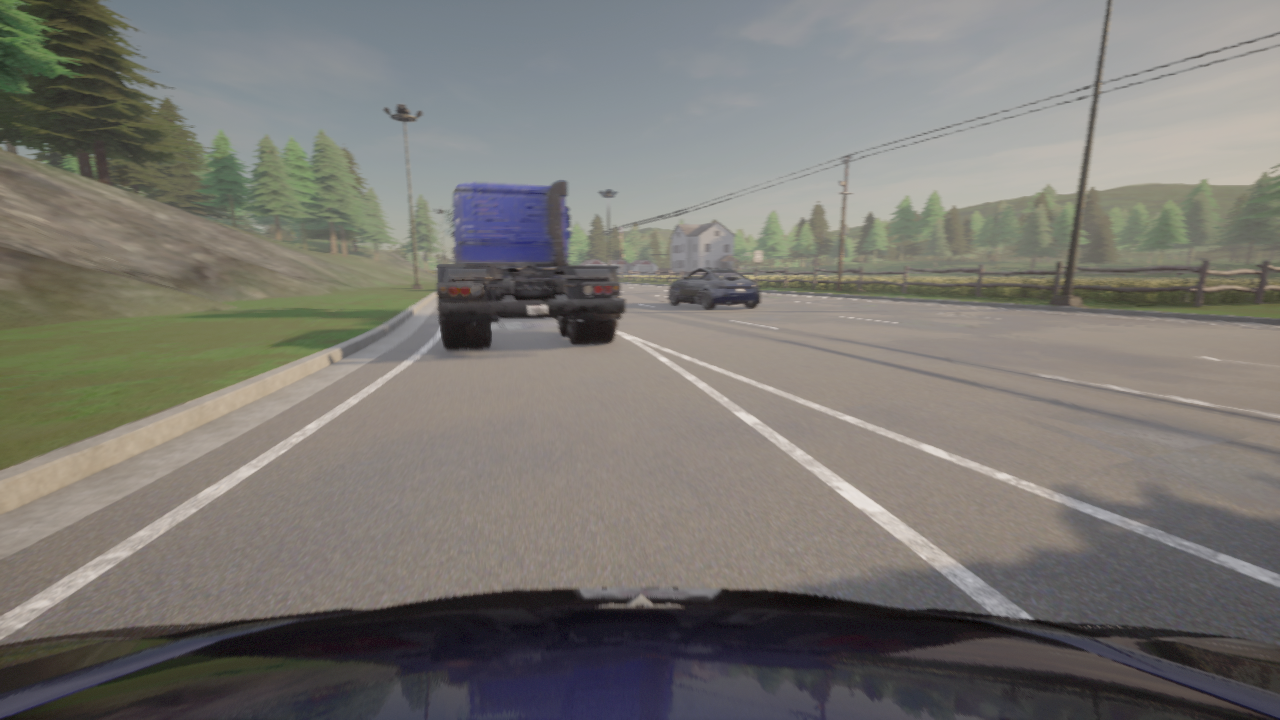cyclist: (0, 588, 1279, 719), (437, 181, 624, 349), (668, 269, 760, 309)
